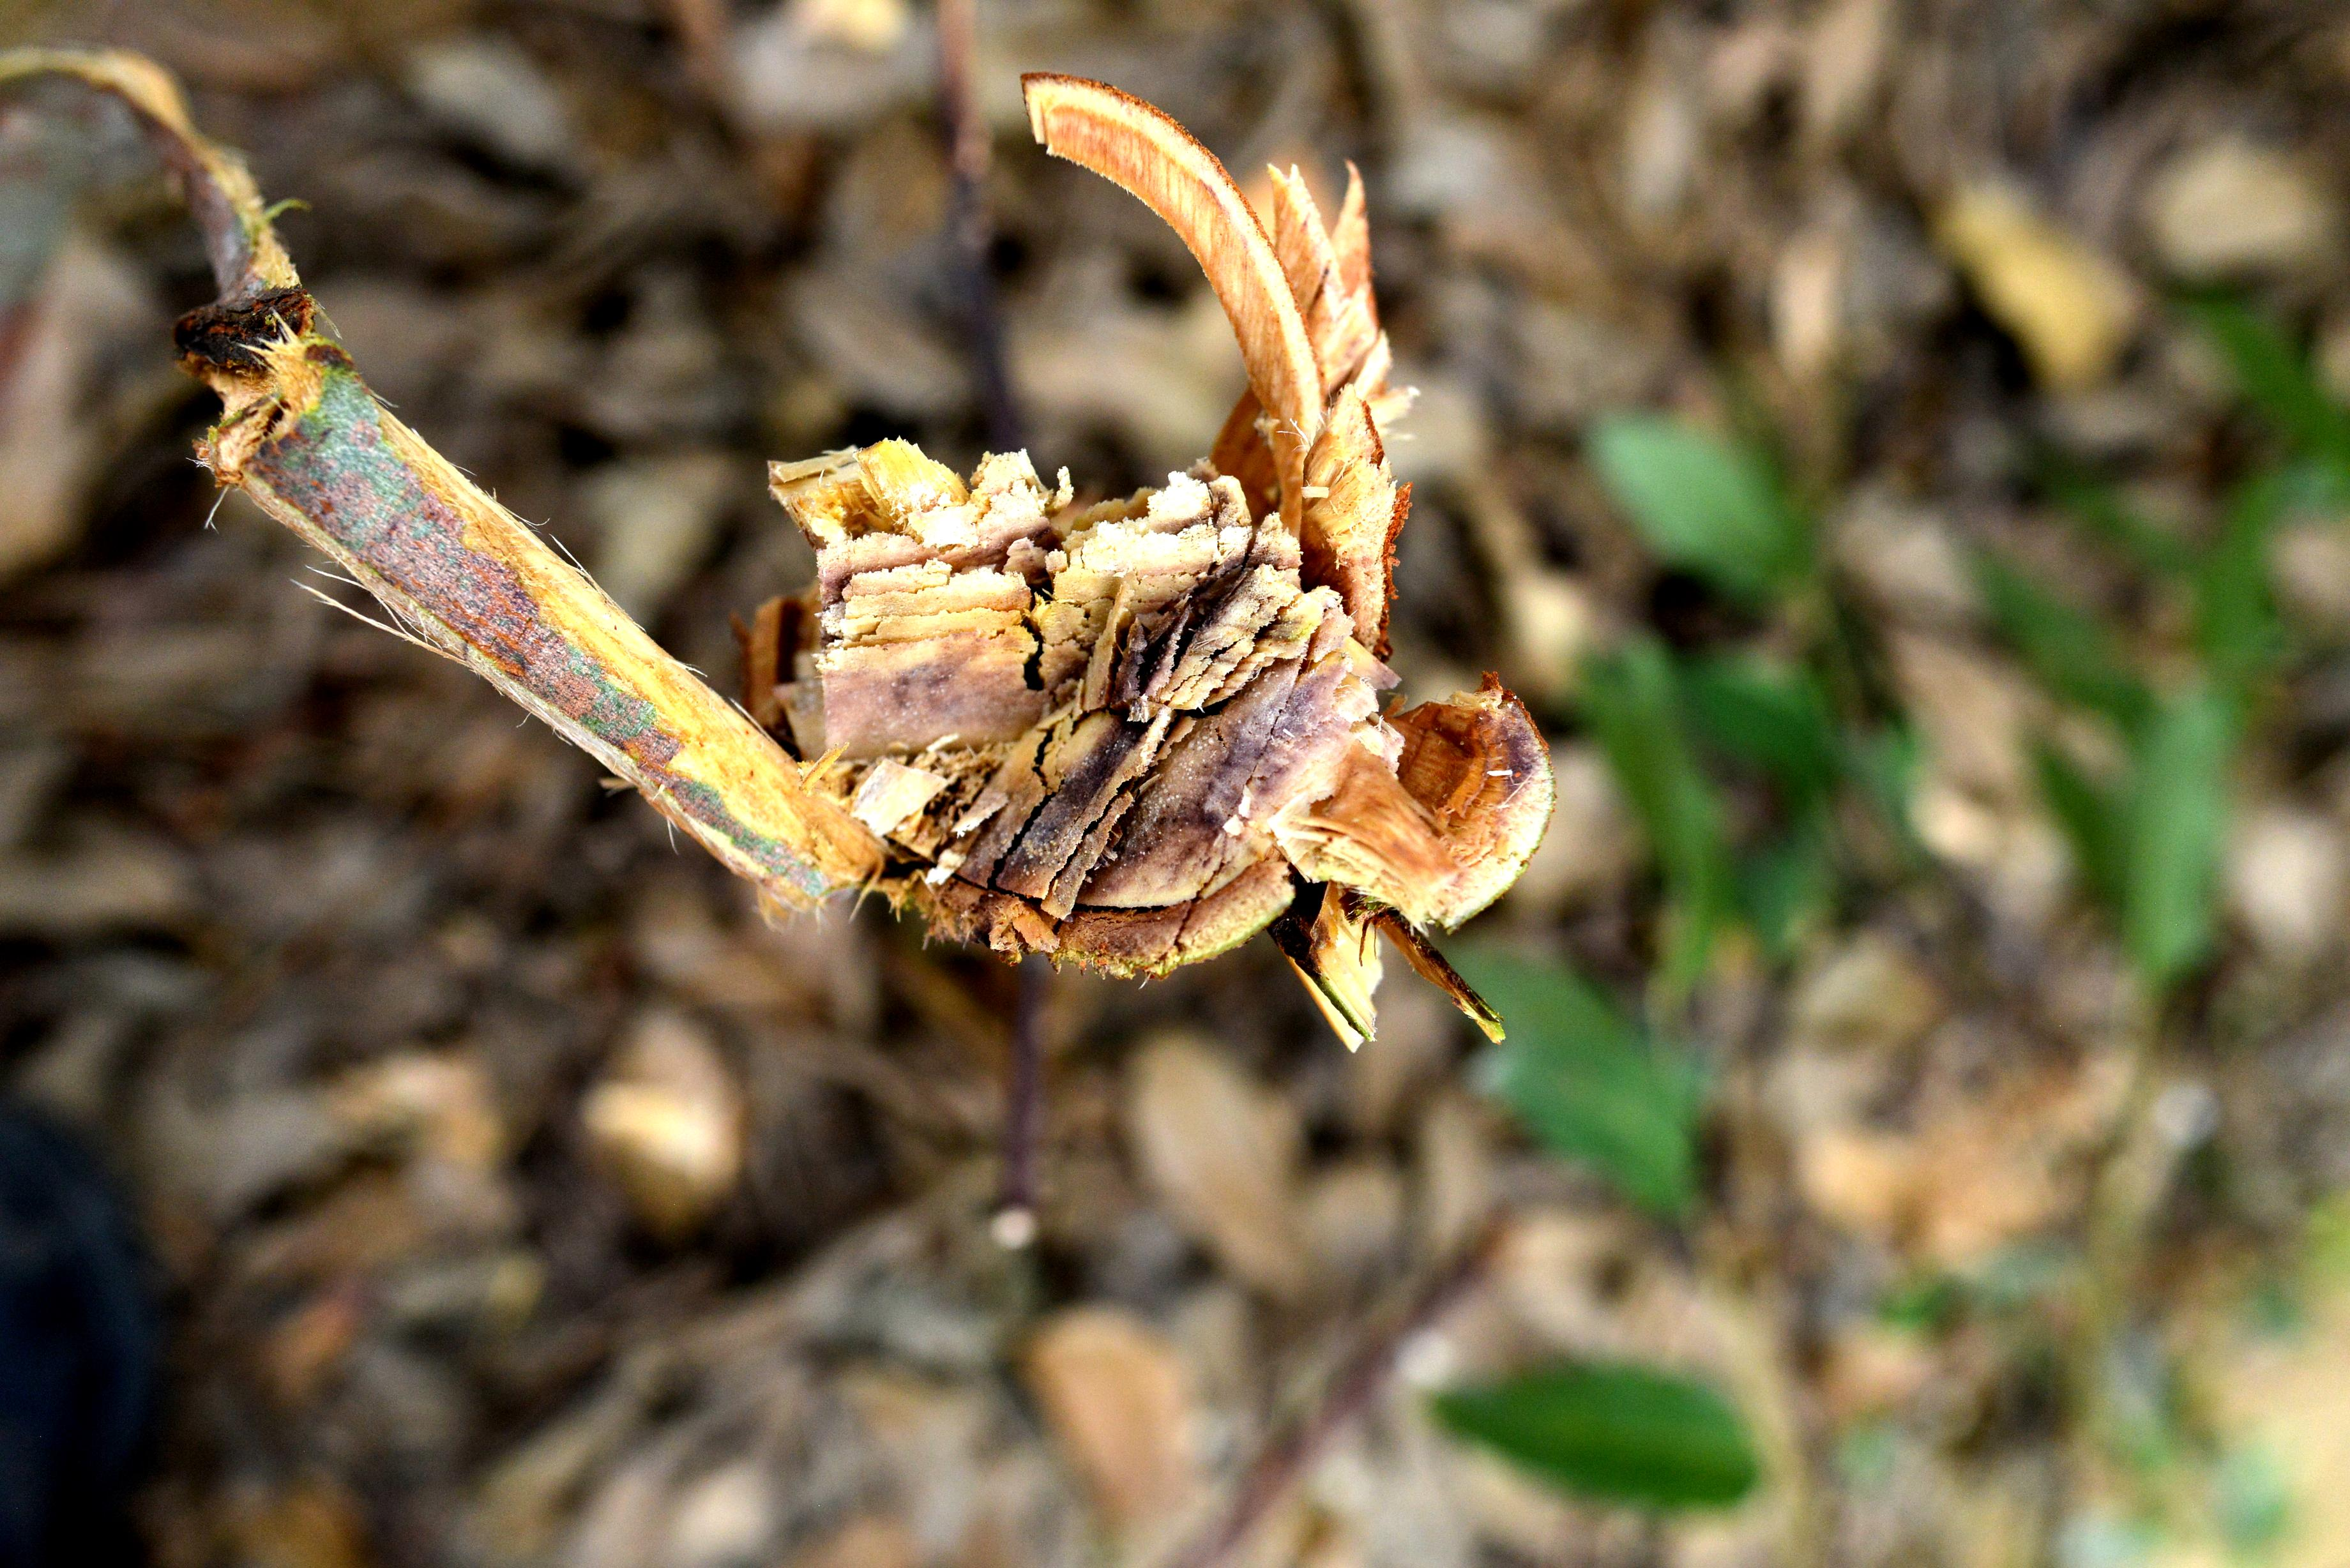Ralstonia: (1151, 723, 1218, 887), (987, 821, 1076, 878), (1050, 730, 1137, 779), (1118, 824, 1143, 878)
